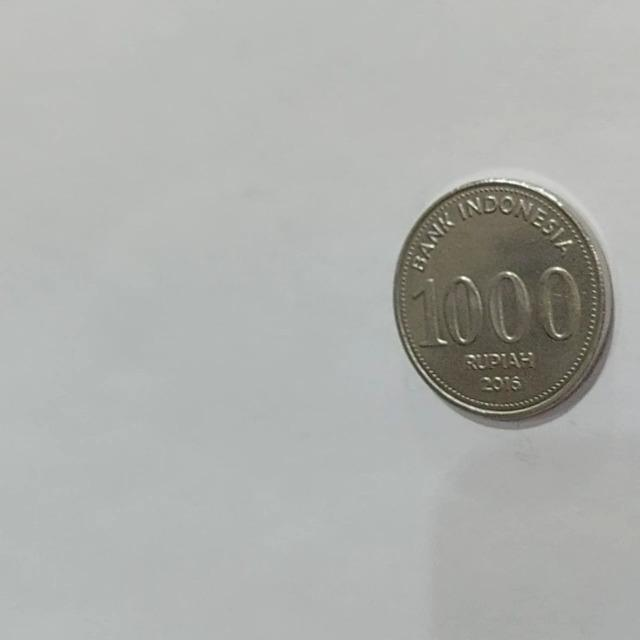Rp100: (390, 174, 613, 427)
